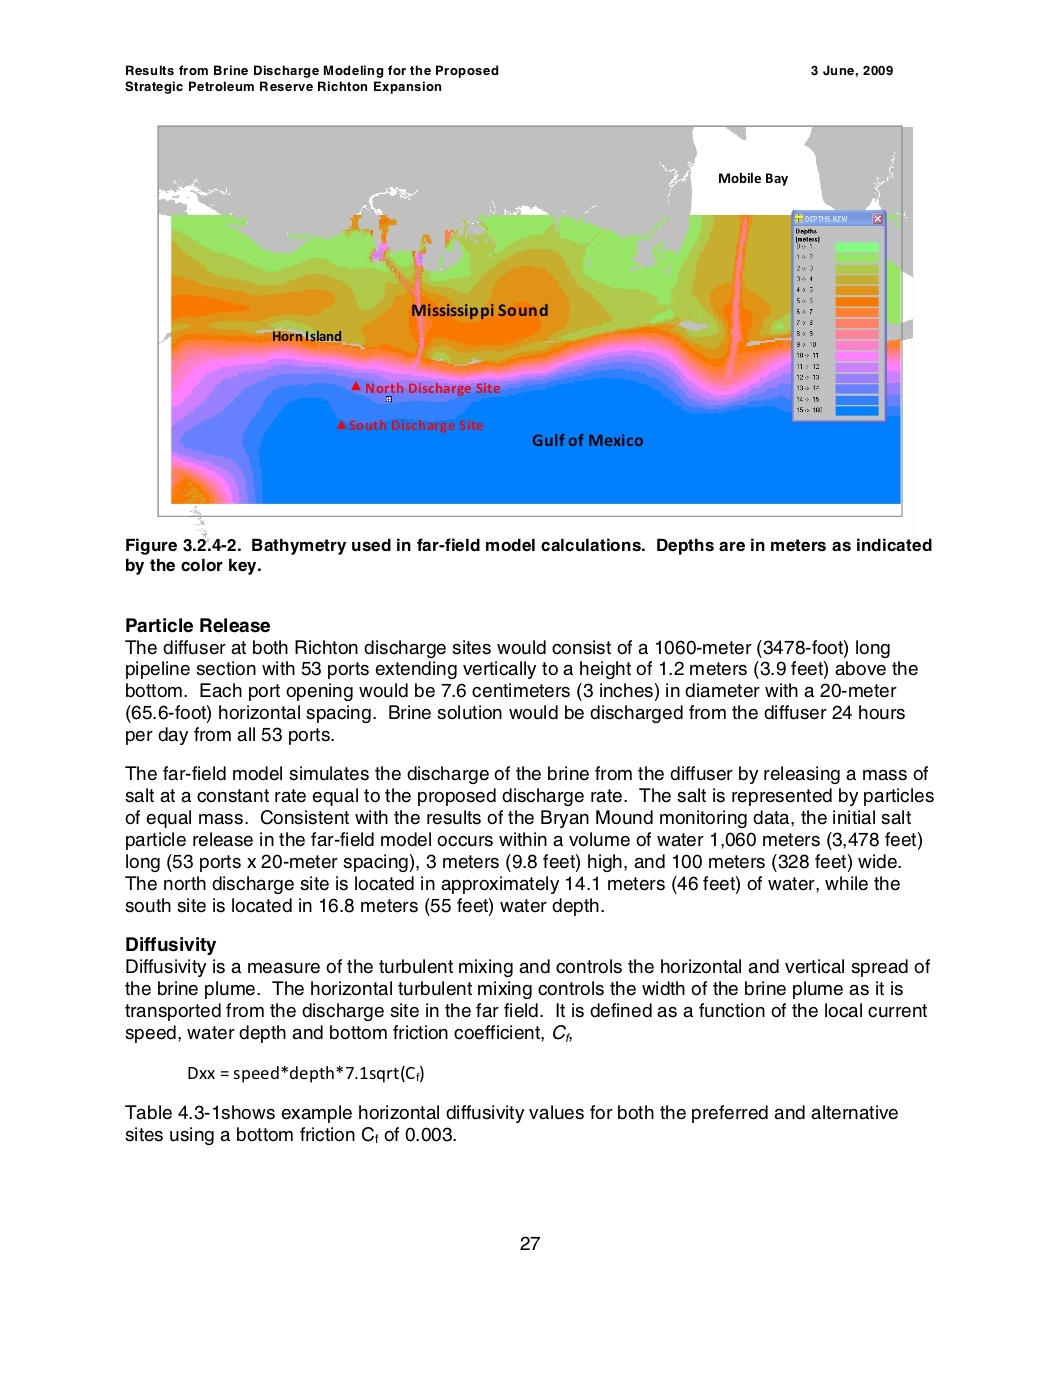figure: (157, 124, 912, 525)
formula: (188, 1064, 424, 1083)
